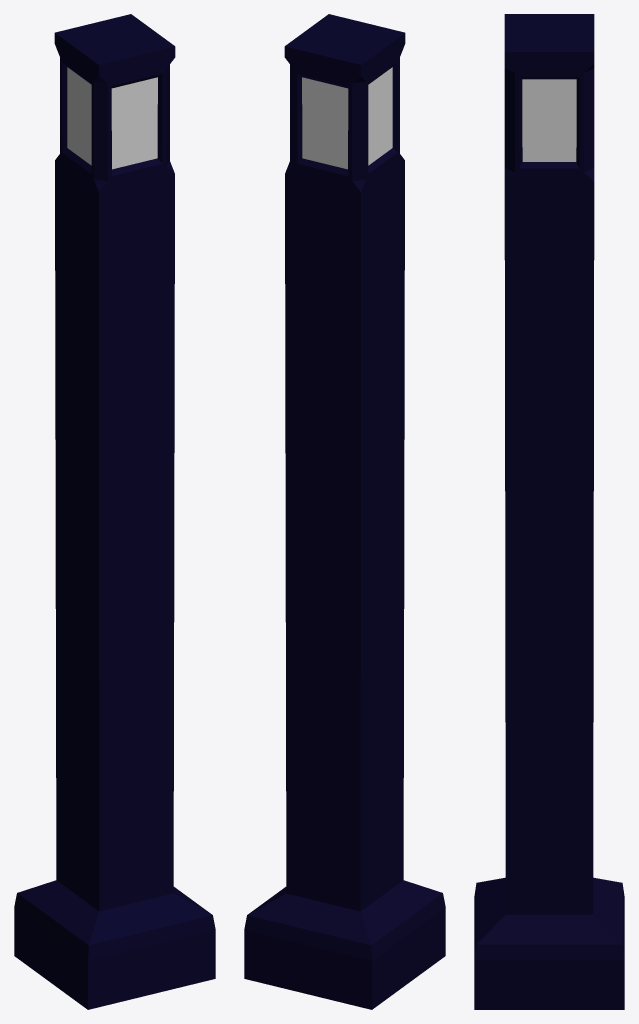
File: DecorLamp.fbx
3 views of the same model, side by side, from view 1: azimuth 30°, elevation 25°; view 2: azimuth 150°, elevation 25°; view 3: azimuth 270°, elevation 25° (orthographic).
Visible parts, largest first — view 1: Куб; view 2: Куб; view 3: Куб.
Part boxes in pixels (x1,y1,x2,y2): Куб: (14, 14, 215, 1009); Куб: (244, 14, 445, 1009); Куб: (474, 14, 624, 1009).
Size of the model in its own units: 63.91 by 444 by 63.91.
